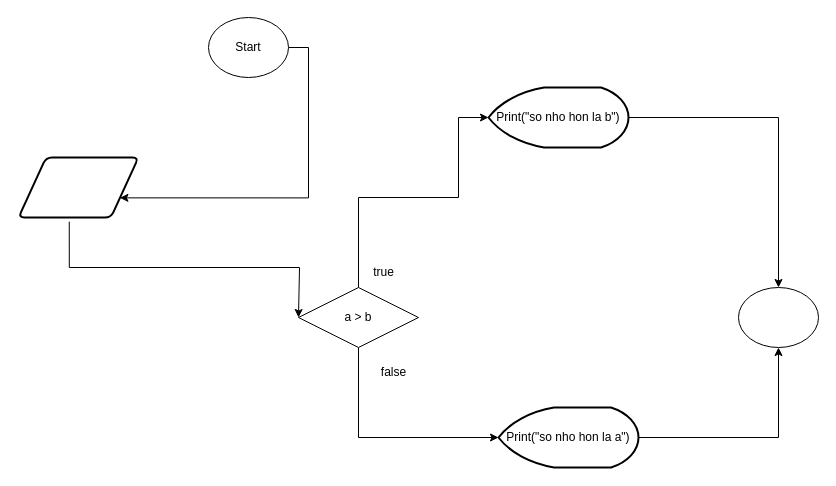
This 836x486 diagram has some shape labels left out. The shapes that lost their labels are listed below. From the top down, each one's centre as x and y in pixels, then its label:
At point 78,187: "Input a, b".
At point 778,317: "End".
